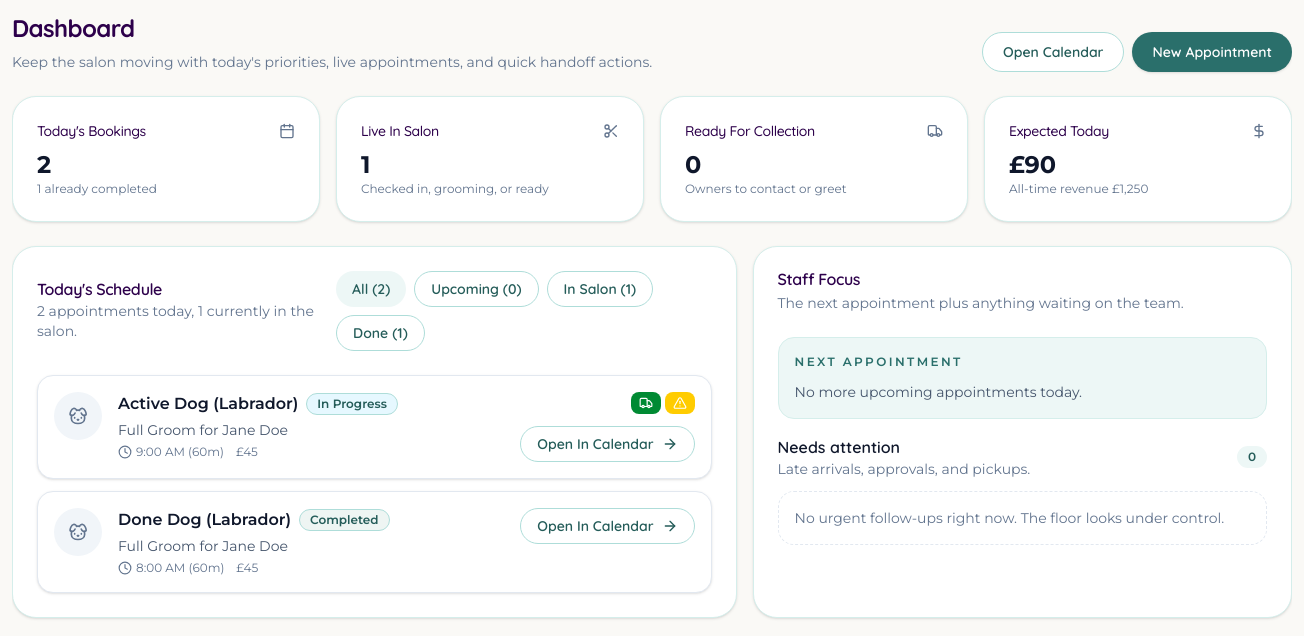
it: Dashboard › filters appointments by schedule filter buttons
The image size is (1304, 636).
Expected: the text "Active Dog (Labrador)" is shown, 118,392 -> 298,416
Click "Done" filter
What coordinates should you click on to do the following:
click the button "Done (1)"
I would click on:
 (380, 333)
Its box is 336,315 -> 425,351.
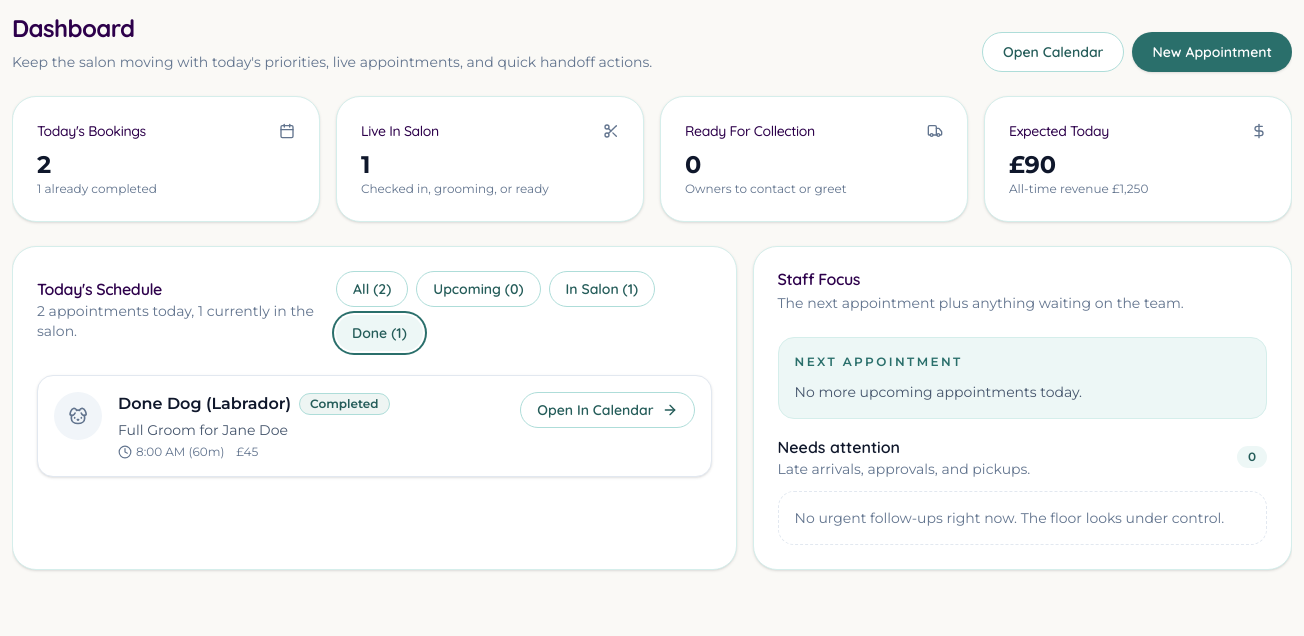
Expected: the text "Done Dog (Labrador)" is shown, 118,392 -> 291,416
Expected: the text "Active Dog" is gone
Click "In Salon" filter
What coordinates should you click on to do the following:
click the button "In Salon (1)"
I would click on:
 (602, 289)
Its box is 549,271 -> 655,307.
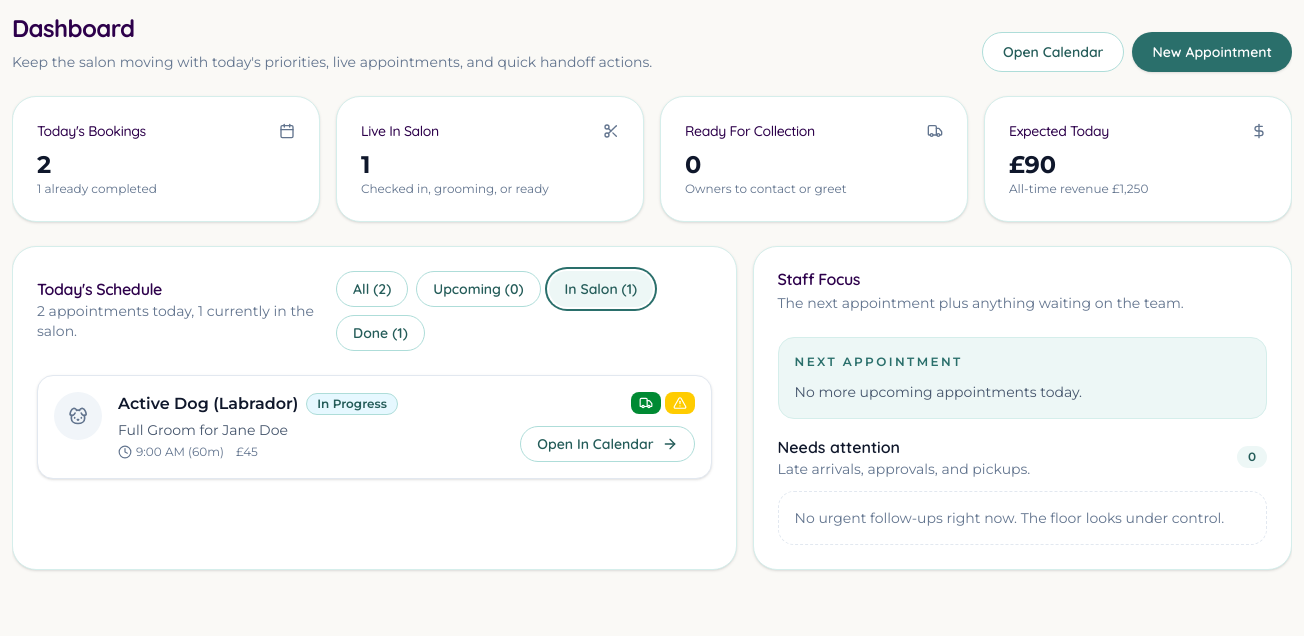
Expected: the text "Active Dog (Labrador)" is shown, 118,392 -> 298,416
Expected: the text "Done Dog" is gone
